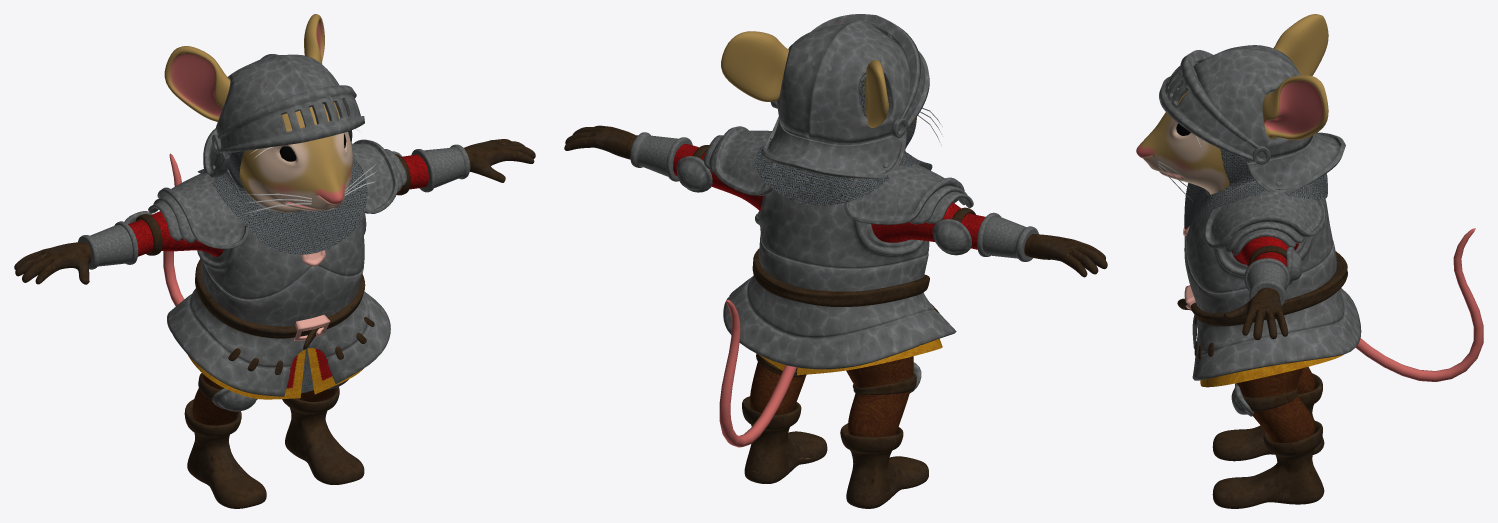
Rendered from knight_mouse.glb.
3 views of the same model, side by side, from view 1: azimuth 30°, elevation 25°; view 2: azimuth 150°, elevation 25°; view 3: azimuth 270°, elevation 25° (orthographic). The views are drawn at different scales.
Visible parts, largest first — view 1: Plane; view 2: Plane; view 3: Plane.
Part boxes in pixels (x1,y1,x2,y2): Plane: (14,14,535,508); Plane: (564,14,1107,508); Plane: (1136,14,1483,508).
Bounding box in the file's own units: 3.28 × 2.63 × 1.92.
Materials: 1 (1 with a texture image).
